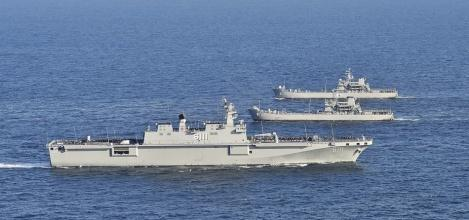warship: (44, 100, 364, 171), (249, 88, 417, 121), (274, 69, 415, 101)
